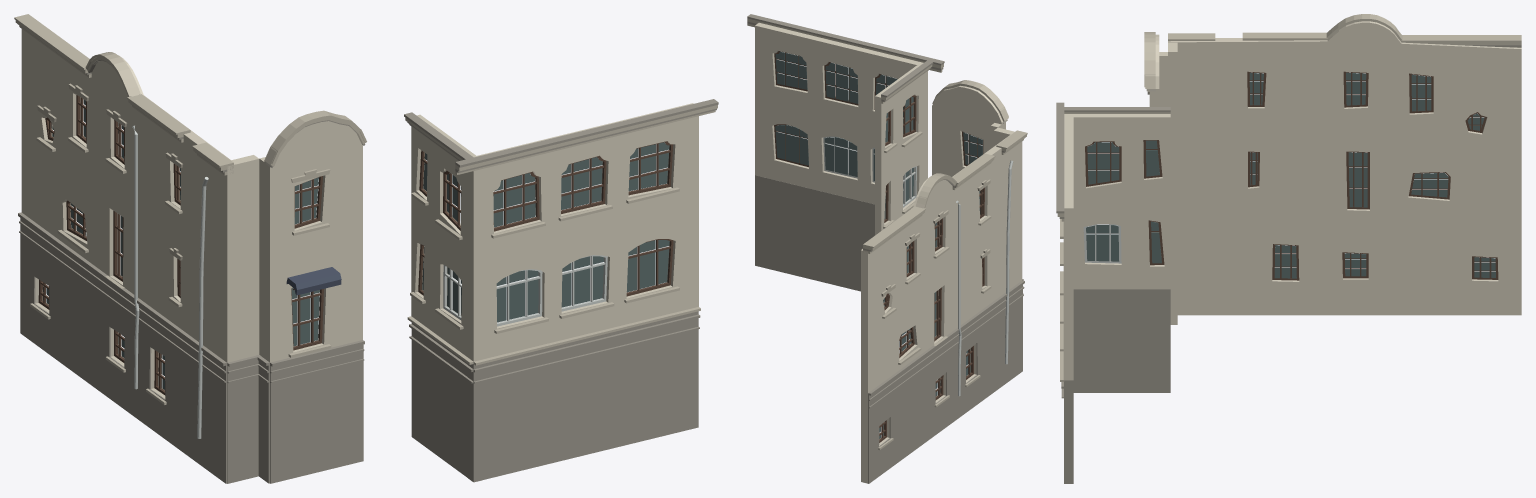
Rendered from full-source.glb.
The picture shows the model from 3 angles, left to right: view 1: azimuth 30°, elevation 25°; view 2: azimuth 150°, elevation 25°; view 3: azimuth 270°, elevation 25°; orthographic projection. The views are drawn at different scales.
Parts seen in each view (by area): view 1: 愚园路1112弄4号蒋光鼐旧居; view 2: 愚园路1112弄4号蒋光鼐旧居; view 3: 愚园路1112弄4号蒋光鼐旧居.
Boxes of the visible parts, x1,y1,x2,y2 form: 愚园路1112弄4号蒋光鼐旧居: (14, 14, 718, 483); 愚园路1112弄4号蒋光鼐旧居: (747, 14, 1027, 483); 愚园路1112弄4号蒋光鼐旧居: (1056, 14, 1521, 483).
Bounding box in the file's own units: 16.43 × 12.91 × 17.72.
